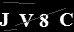8: (38, 13, 50, 28)
C: (58, 12, 74, 26)
J: (1, 12, 9, 27)
V: (18, 13, 34, 28)
